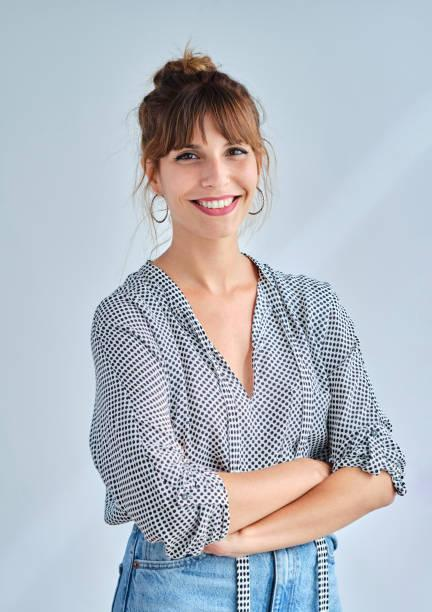no_goggle: (138, 142, 279, 176)
no_helmet: (126, 42, 279, 153)
no_vest: (81, 243, 416, 599)
